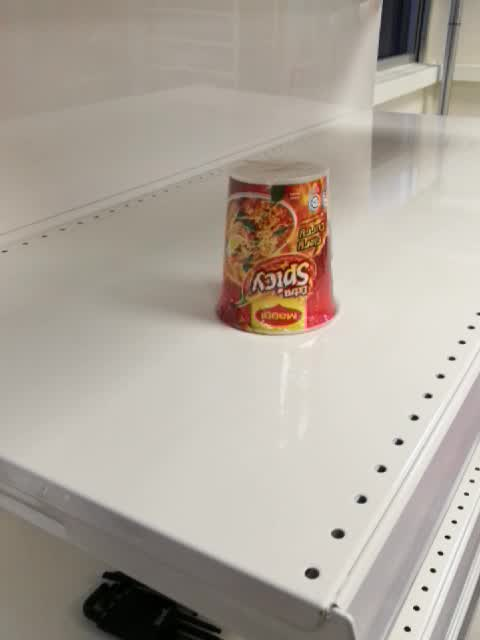maggi: (214, 158, 342, 337)
